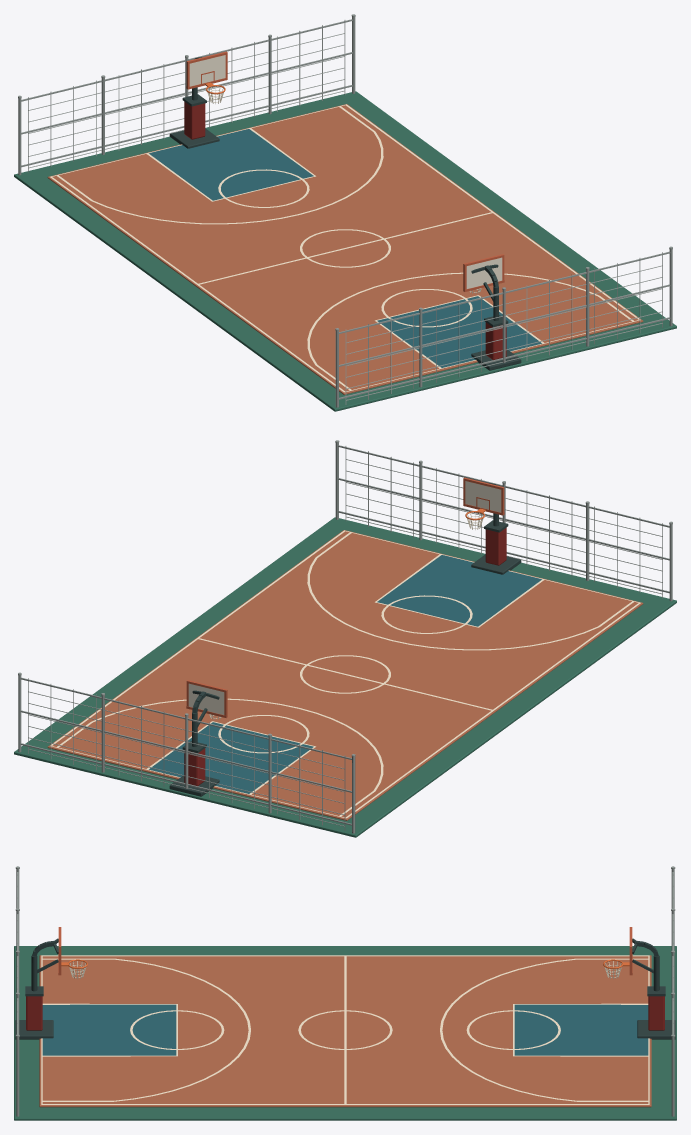
File: LM_ENV_Basketball.glb
The picture shows the model from 3 angles, top to bottom: view 1: azimuth 30°, elevation 25°; view 2: azimuth 150°, elevation 25°; view 3: azimuth 270°, elevation 25°; orthographic projection. The views are drawn at different scales.
Parts seen in each view (by area): view 1: Basketball | Court terracotta, Basketball | Court apron green, Basketball | Court key teal, Basketball | Fence galvanised, Basketball | Fence mesh, Basketball | Court line cream, Basketball | Hoop post slate, Basketball | Backboard white, Basketball | Post padding, Basketball | Backboard trim; view 2: Basketball | Court terracotta, Basketball | Court apron green, Basketball | Court key teal, Basketball | Fence galvanised, Basketball | Fence mesh, Basketball | Court line cream, Basketball | Hoop post slate, Basketball | Backboard white, Basketball | Post padding, Basketball | Backboard trim; view 3: Basketball | Court terracotta, Basketball | Court apron green, Basketball | Court key teal, Basketball | Court line cream, Basketball | Hoop post slate, Basketball | Fence galvanised, Basketball | Post padding.
Boxes of the visible parts, <box> form: Basketball | Court terracotta: <box>47,104,643,394</box>; Basketball | Court apron green: <box>14,91,676,411</box>; Basketball | Court key teal: <box>149,129,541,367</box>; Basketball | Fence galvanised: <box>18,14,672,407</box>; Basketball | Fence mesh: <box>28,20,662,404</box>; Basketball | Court line cream: <box>50,104,640,392</box>; Basketball | Hoop post slate: <box>169,57,521,370</box>; Basketball | Backboard white: <box>189,55,502,288</box>; Basketball | Post padding: <box>184,101,506,360</box>; Basketball | Backboard trim: <box>186,51,504,291</box>; Basketball | Court terracotta: <box>47,530,643,820</box>; Basketball | Court apron green: <box>14,517,676,837</box>; Basketball | Court key teal: <box>149,555,541,793</box>; Basketball | Fence galvanised: <box>18,440,672,833</box>; Basketball | Fence mesh: <box>28,446,662,830</box>; Basketball | Court line cream: <box>50,530,640,818</box>; Basketball | Hoop post slate: <box>169,483,521,796</box>; Basketball | Backboard white: <box>188,481,501,714</box>; Basketball | Post padding: <box>184,527,506,786</box>; Basketball | Backboard trim: <box>186,477,504,717</box>; Basketball | Court terracotta: <box>39,955,651,1107</box>; Basketball | Court apron green: <box>14,946,676,1120</box>; Basketball | Court key teal: <box>42,1004,648,1055</box>; Basketball | Court line cream: <box>41,955,649,1104</box>; Basketball | Hoop post slate: <box>15,938,675,1039</box>; Basketball | Fence galvanised: <box>15,866,675,1116</box>; Basketball | Post padding: <box>26,996,664,1030</box>.
Size of the model in its own units: 16 by 4.23 by 26.
